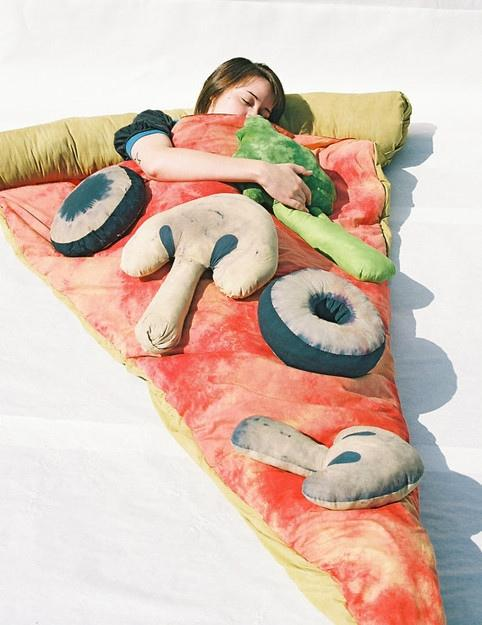broccoli: (231, 115, 396, 284)
mushroom: (118, 192, 279, 355), (230, 416, 424, 510)
